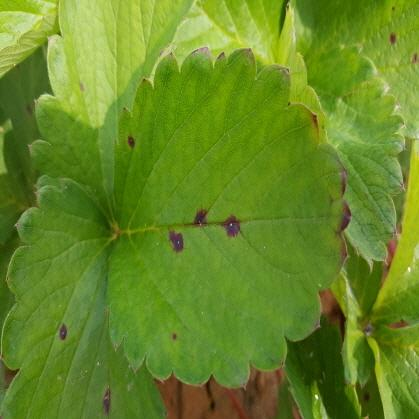Leaf Spot: (105, 46, 353, 389), (0, 176, 166, 418), (27, 0, 197, 232), (304, 0, 418, 139), (0, 44, 53, 209), (354, 363, 386, 418)
